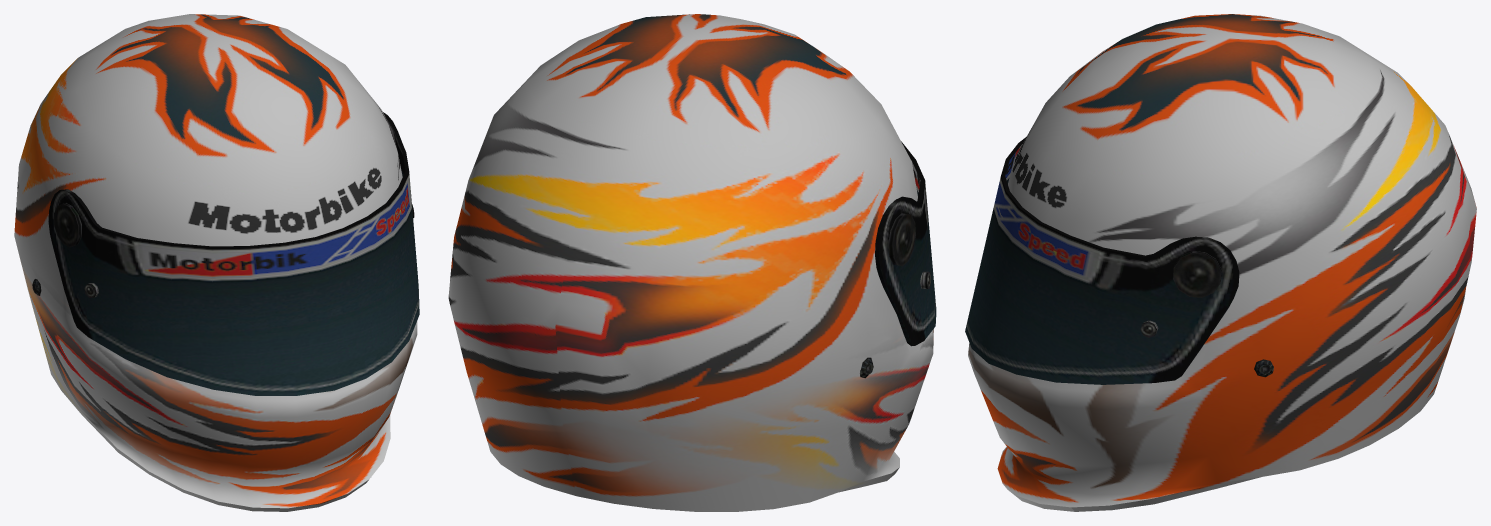
The model's file is Helmet 7.FBX.
3 renders of one model, left to right at view 1: azimuth 30°, elevation 25°; view 2: azimuth 150°, elevation 25°; view 3: azimuth 270°, elevation 25°, orthographic. The views are drawn at different scales.
Visible parts, largest first — view 1: Helmet, Helmet window; view 2: Helmet, Helmet window; view 3: Helmet, Helmet window.
Boxes of the visible parts, bbox=[...] form: Helmet: bbox=[14, 14, 417, 511]; Helmet window: bbox=[48, 112, 419, 395]; Helmet: bbox=[448, 14, 933, 511]; Helmet window: bbox=[875, 141, 936, 346]; Helmet: bbox=[968, 14, 1476, 511]; Helmet window: bbox=[965, 137, 1239, 384].
Bounding box in the file's own units: 16.47 × 18.9 × 20.
1 material, 1 textured.
